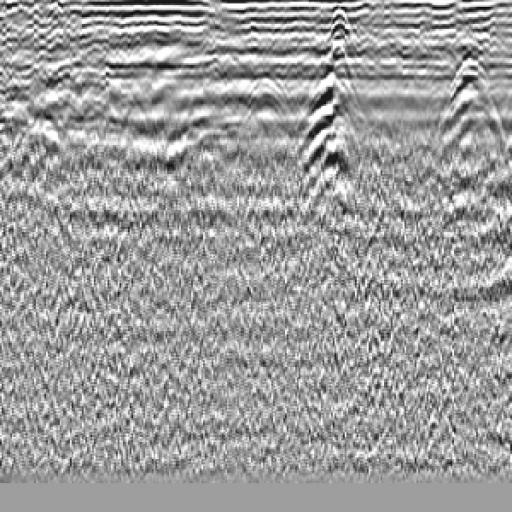metalic: (277, 32, 393, 216)
nonmetalic: (418, 44, 512, 182)
